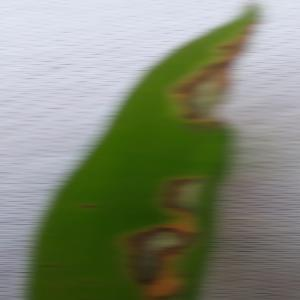Busuk Leher: (124, 221, 196, 285), (179, 58, 229, 130), (162, 171, 207, 216)
